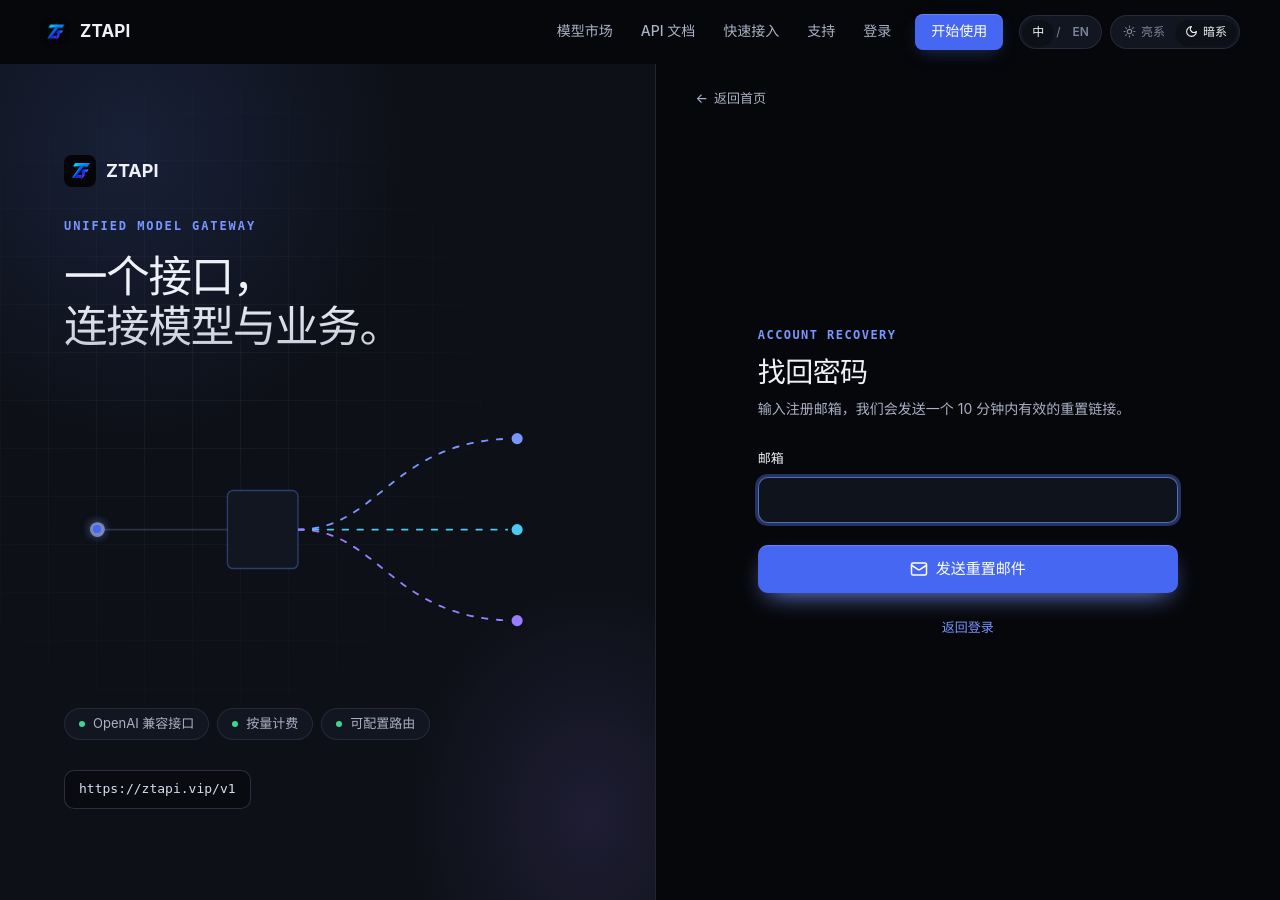
Scenario: protected authentication routes › requests password recovery without exposing whether an email exists
The image size is (1280, 900).
Check: the heading "找回密码" is shown, box top-left (758, 355), bottom-right (868, 389)
Type " Alice@Example.com " into the field labelled "邮箱" at [968, 500], box top-left (758, 477), bottom-right (1178, 523)
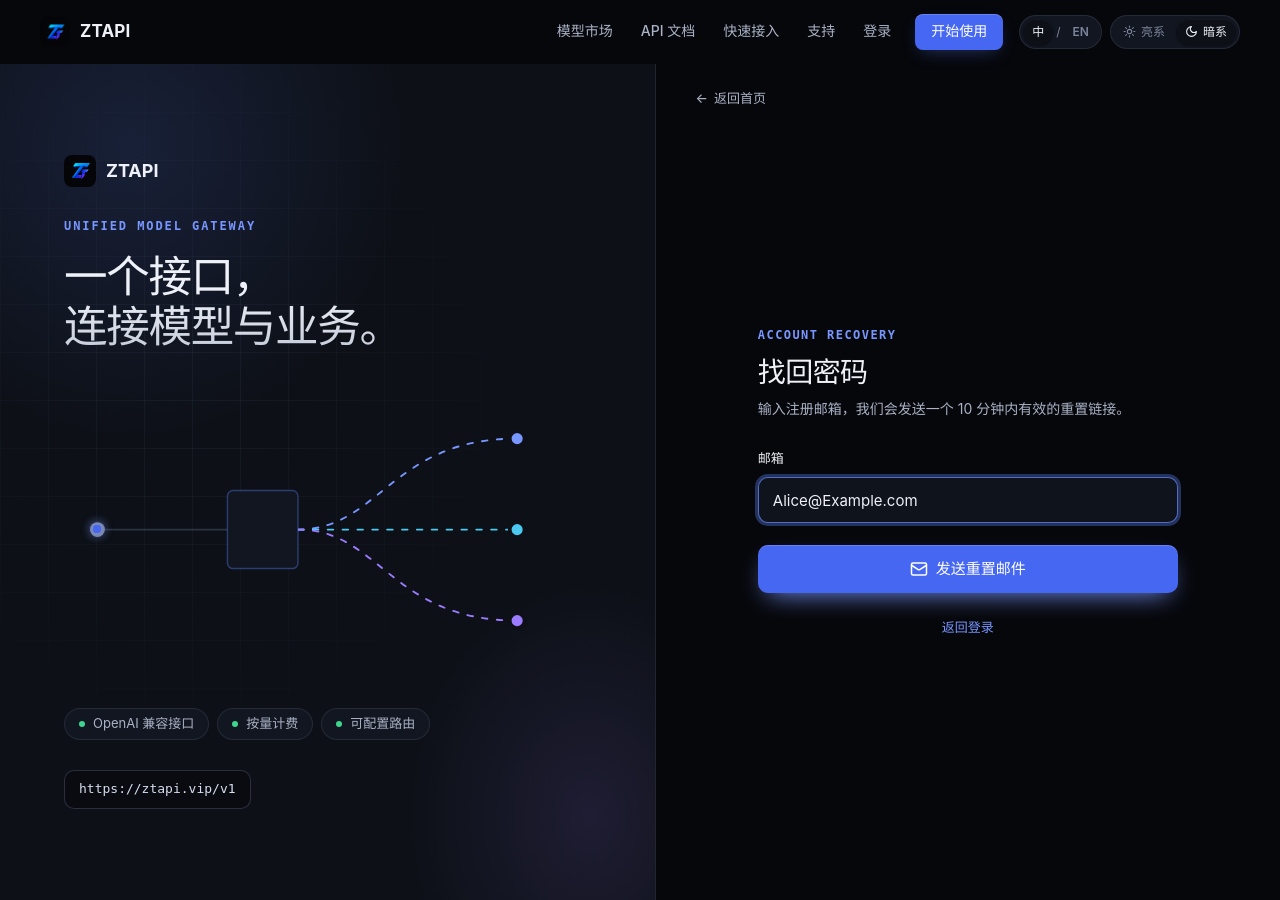
Click the button "发送重置邮件" at [968, 569], box top-left (758, 545), bottom-right (1178, 593)
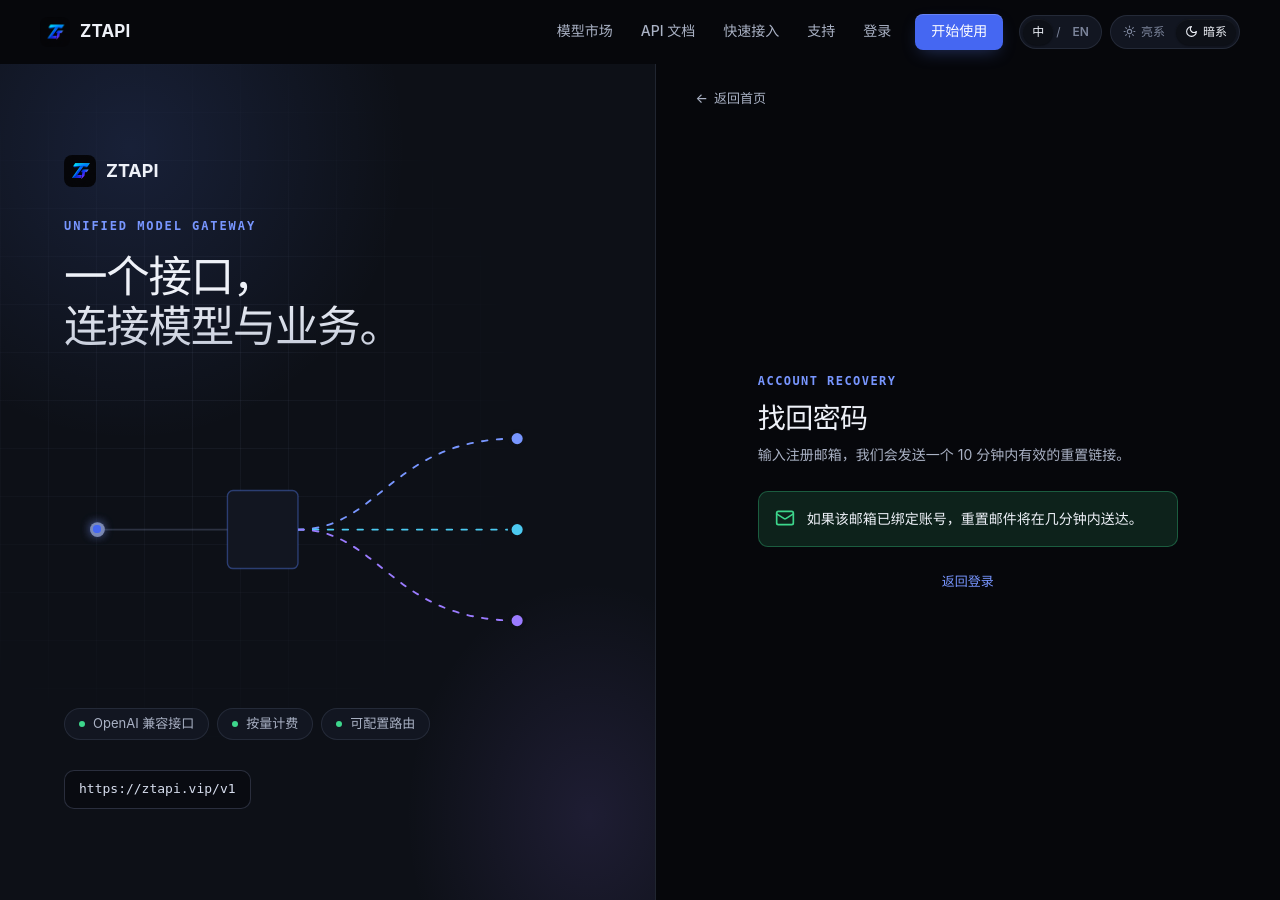
Check: the text "如果该邮箱已绑定账号，重置邮件将在几分钟内送达。" is shown, box top-left (807, 508), bottom-right (1143, 530)
